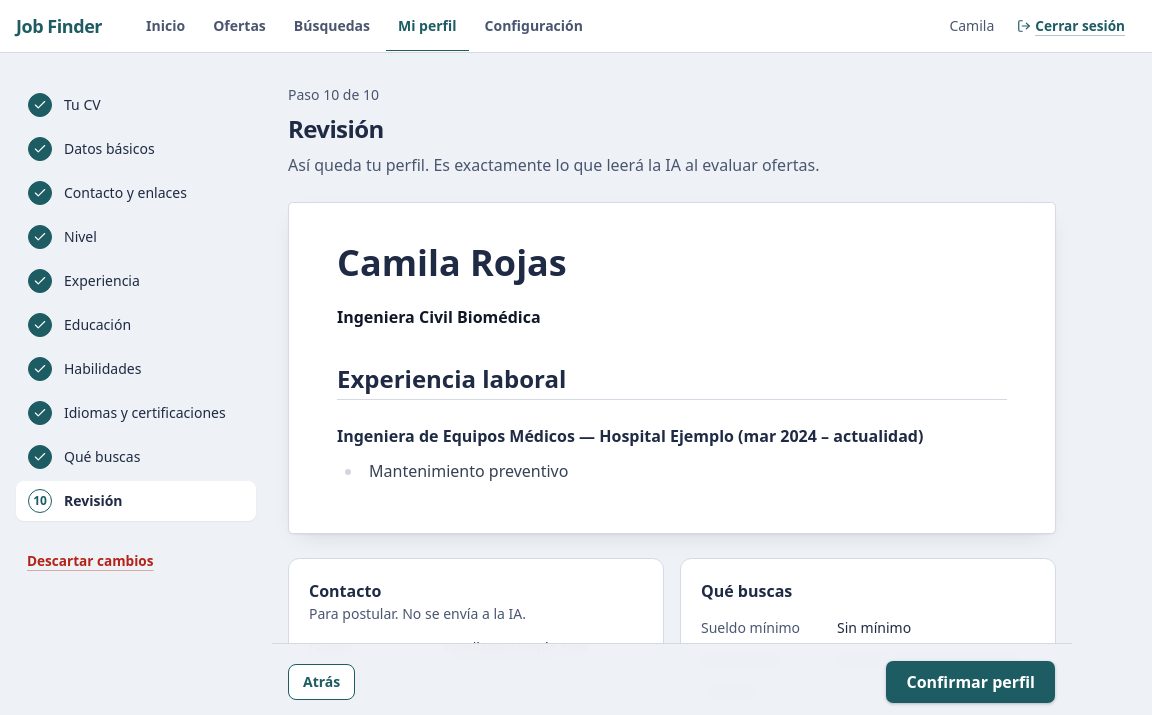
Mi perfil: wizard › en la revisión muestra el perfil que lee la IA y al confirmar queda listo
This screenshot has width=1152, height=715.
Check: the heading "Camila Rojas" is shown, box [337,238,567,287]
Check: the text "Para postular. No se envía a la IA." is shown, box [309,604,526,623]
Click the button "Confirmar perfil" at point(971, 682), box [886,660,1056,704]
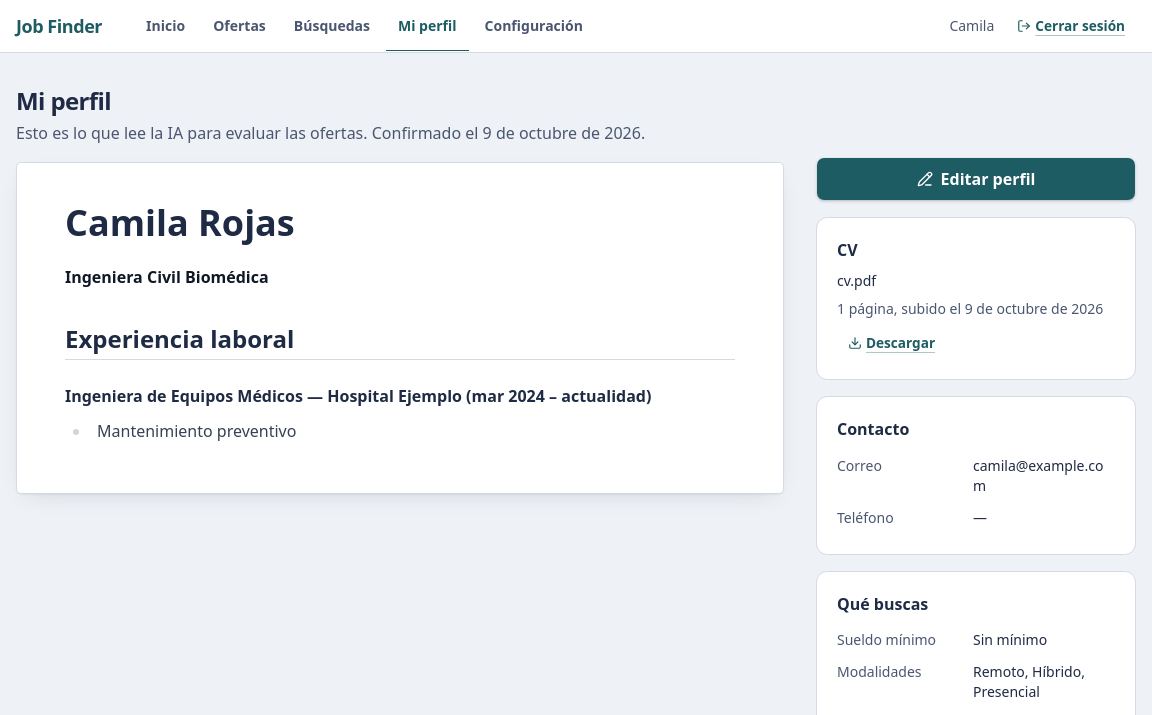
Check: the button "Editar perfil" is shown, box [816,157,1136,201]
